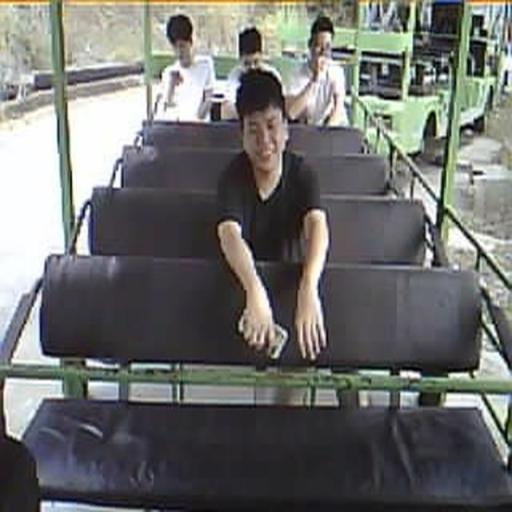persona: (215, 65, 331, 364), (284, 16, 350, 127), (153, 13, 216, 121), (222, 24, 283, 120)
